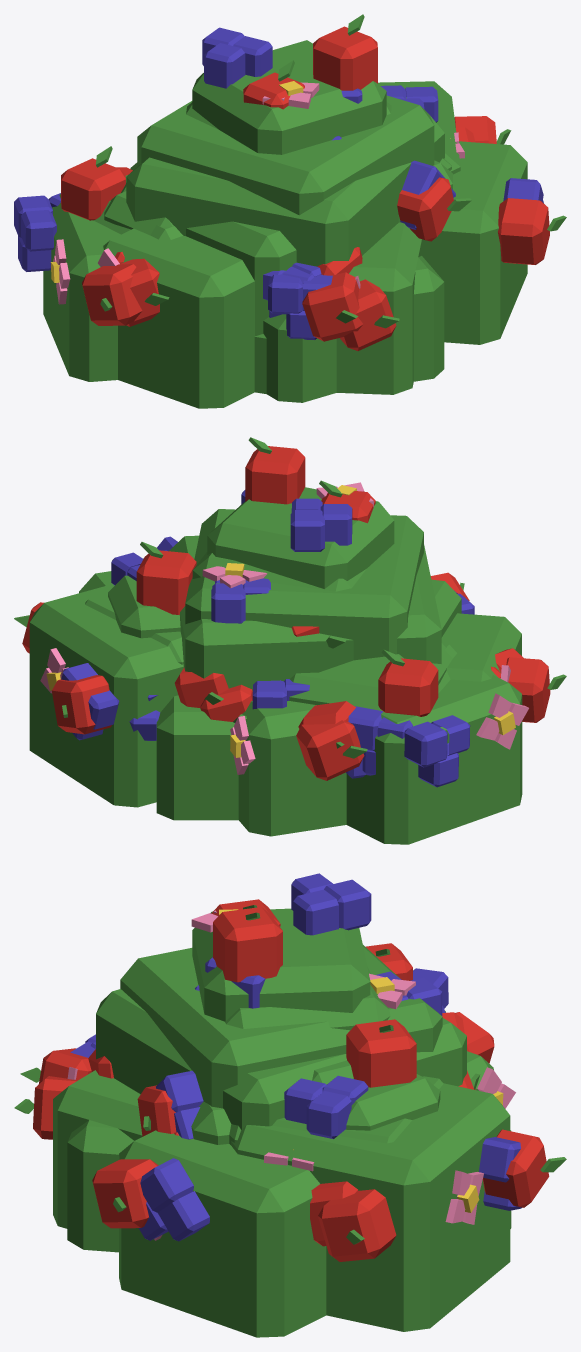
The model's file is w1_bushes.fbx.
The picture shows the model from 3 angles, top to bottom: view 1: azimuth 30°, elevation 25°; view 2: azimuth 150°, elevation 25°; view 3: azimuth 270°, elevation 25°; orthographic projection. The views are drawn at different scales.
Visible parts, largest first — view 1: BushA.AppleLeaves, BushC.AppleLeaves, BushB.AppleLeaves, BushC.Apples, BushB.Apples, BushC.Berries, BushA.Apples, BushB.Berries, BushB.Blooms, BushA.Berries, BushC.Blooms; view 2: BushA.AppleLeaves, BushB.AppleLeaves, BushC.AppleLeaves, BushA.Apples, BushC.Berries, BushC.Apples, BushB.Berries, BushB.Apples, BushA.Berries, BushA.Blooms, BushB.Blooms, BushC.Blooms; view 3: BushA.AppleLeaves, BushC.AppleLeaves, BushB.AppleLeaves, BushA.Apples, BushC.Berries, BushC.Apples, BushB.Apples, BushB.Berries, BushA.Berries, BushA.Blooms, BushC.Blooms.
Boxes of the visible parts, x1,y1,x2,y2 form: BushA.AppleLeaves: (100, 60, 511, 408); BushC.AppleLeaves: (93, 14, 471, 394); BushB.AppleLeaves: (43, 141, 566, 402); BushC.Apples: (115, 26, 475, 341); BushB.Apples: (61, 158, 549, 326); BushC.Berries: (49, 27, 455, 339); BushA.Apples: (82, 72, 496, 350); BushB.Berries: (14, 136, 543, 276); BushB.Blooms: (53, 132, 464, 304); BushA.Berries: (263, 88, 362, 317); BushC.Blooms: (262, 82, 360, 288); BushA.AppleLeaves: (14, 480, 566, 836); BushB.AppleLeaves: (79, 571, 522, 844); BushC.AppleLeaves: (85, 437, 464, 748); BushA.Apples: (22, 491, 550, 780); BushC.Berries: (111, 498, 474, 775); BushC.Apples: (200, 446, 500, 728); BushB.Berries: (129, 536, 470, 787); BushB.Apples: (174, 626, 523, 716); BushA.Berries: (61, 490, 365, 778); BushA.Blooms: (40, 648, 510, 774); BushB.Blooms: (476, 693, 528, 749); BushC.Blooms: (202, 482, 373, 588); BushA.AppleLeaves: (14, 905, 566, 1331); BushC.AppleLeaves: (20, 908, 470, 1228); BushB.AppleLeaves: (113, 949, 511, 1337); BushA.Apples: (33, 899, 549, 1261); BushC.Berries: (70, 873, 445, 1139); BushC.Apples: (39, 907, 475, 1246); BushB.Apples: (88, 943, 474, 1228); BushB.Berries: (138, 968, 448, 1241); BushA.Berries: (91, 957, 521, 1210); BushA.Blooms: (445, 1067, 515, 1224); BushC.Blooms: (67, 910, 415, 1079).
Bounding box in the file's own units: 6.42 × 3.77 × 5.64.
